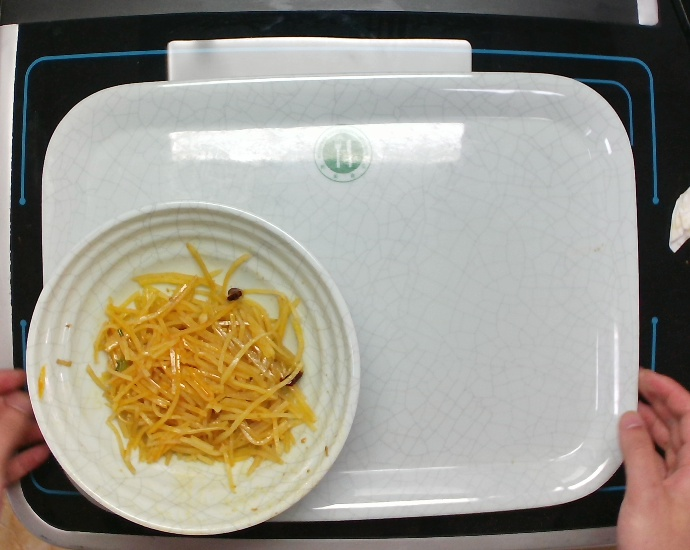JYsf-Da_Tang_Wan: (16, 187, 369, 542)
